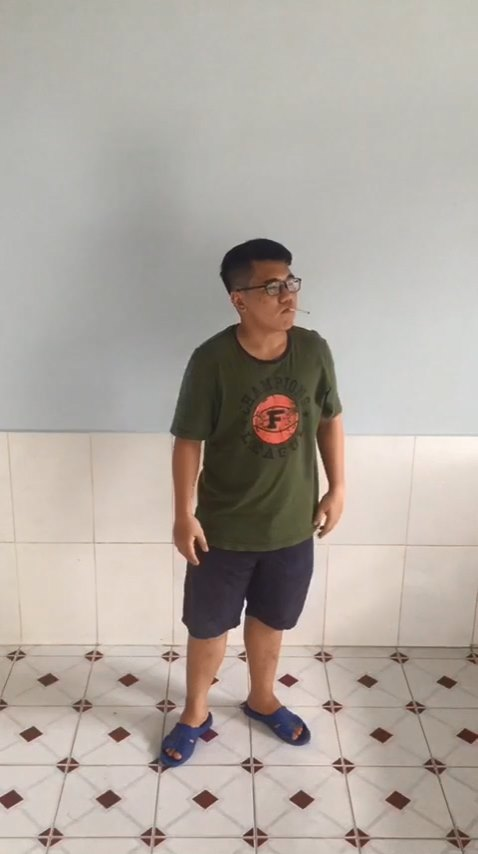cigarette: (286, 300, 311, 321)
person: (139, 214, 363, 781)
